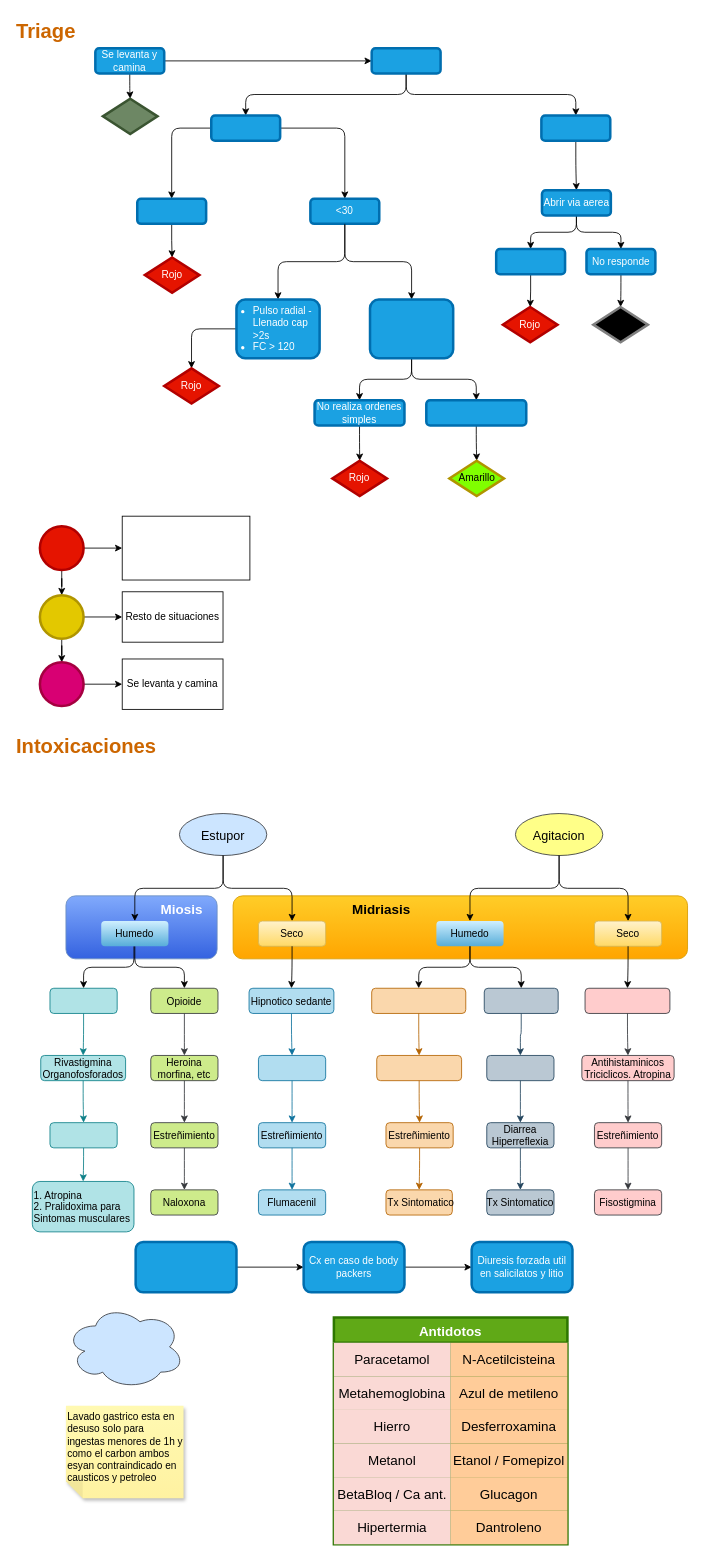
Some shapes in this 702 by 1560 pixel diagram are drawn without their labels. Here are the shapes that lost their labels. From the top down, the centre of each, then its label:
At (x=405, y=60): "Respira?".
At (x=129, y=116): "Verde".
At (x=245, y=128): "Si".
At (x=575, y=128): "No".
At (x=171, y=211): "FR >30".
At (x=530, y=261): "Si respira".
At (x=411, y=328): "Pulso radial + Llenado cap <2s FC < 120".
At (x=620, y=324): "Negro".
At (x=476, y=412): "Realiza ordenes simples".
At (x=185, y=547): "Respira tras abrir VA FR>30 Sin pulso radial Llenado cap >2s >FC >120".
At (x=83, y=1000): "Colinergico".
At (x=418, y=1000): "Simpaticomimetico".
At (x=520, y=1000): "Serotoninergico".
At (x=627, y=1000): "Anticolinergico".
At (x=292, y=1068): "Benzo, alcohol Barbituricos".
At (x=419, y=1068): "Anfetaminas Cocaina".
At (x=520, y=1068): "ISRS".
At (x=83, y=1135): "Diarrea, olor a gasolina".
At (x=185, y=1266): "Carbon activado es de eleccion antes de 2 horas de la ingesta".
At (x=124, y=1346): "Flumacenilo esta contraindicado en cocaina y triciclicos".
